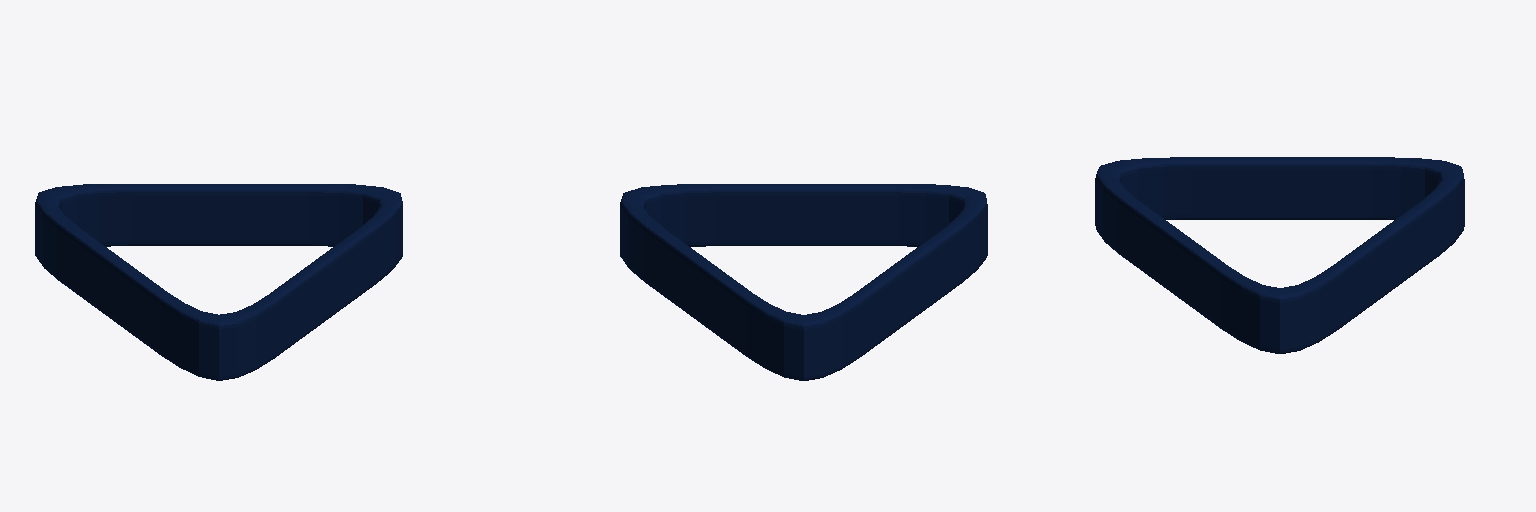
Rendered from rack.obj.
The picture shows the model from 3 angles: view 1: azimuth 30°, elevation 25°; view 2: azimuth 150°, elevation 25°; view 3: azimuth 270°, elevation 25°; orthographic projection.
Parts seen in each view (by area): view 1: Cylinder_002_Cylinder_008; view 2: Cylinder_002_Cylinder_008; view 3: Cylinder_002_Cylinder_008.
Part boxes in pixels (x1,y1,x2,y2): Cylinder_002_Cylinder_008: (35,184,402,380); Cylinder_002_Cylinder_008: (620,184,987,380); Cylinder_002_Cylinder_008: (1095,157,1464,353).
Size of the model in its own units: 252 by 48.86 by 278.